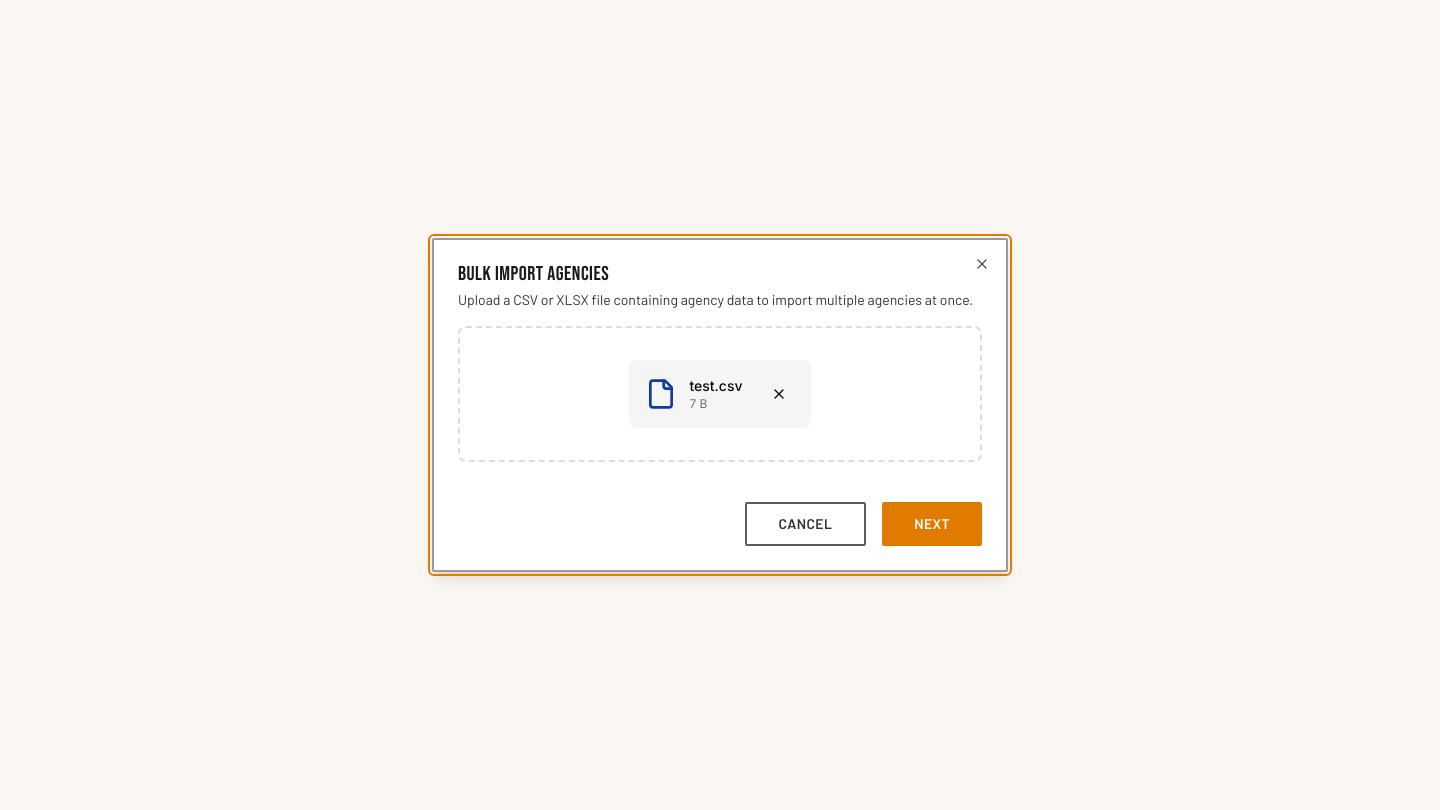
Test: BulkImportModal › File Removal › clears selected file when remove button is clicked
Earlier steps of the test are not shown.
expect the text "test.csv" is shown: met, box [690, 376, 743, 396]
What coordinates should you click on to do the following:
click the button with test id "remove-file-button"
I would click on:
 (778, 394)
Its box is [762, 372, 794, 416].
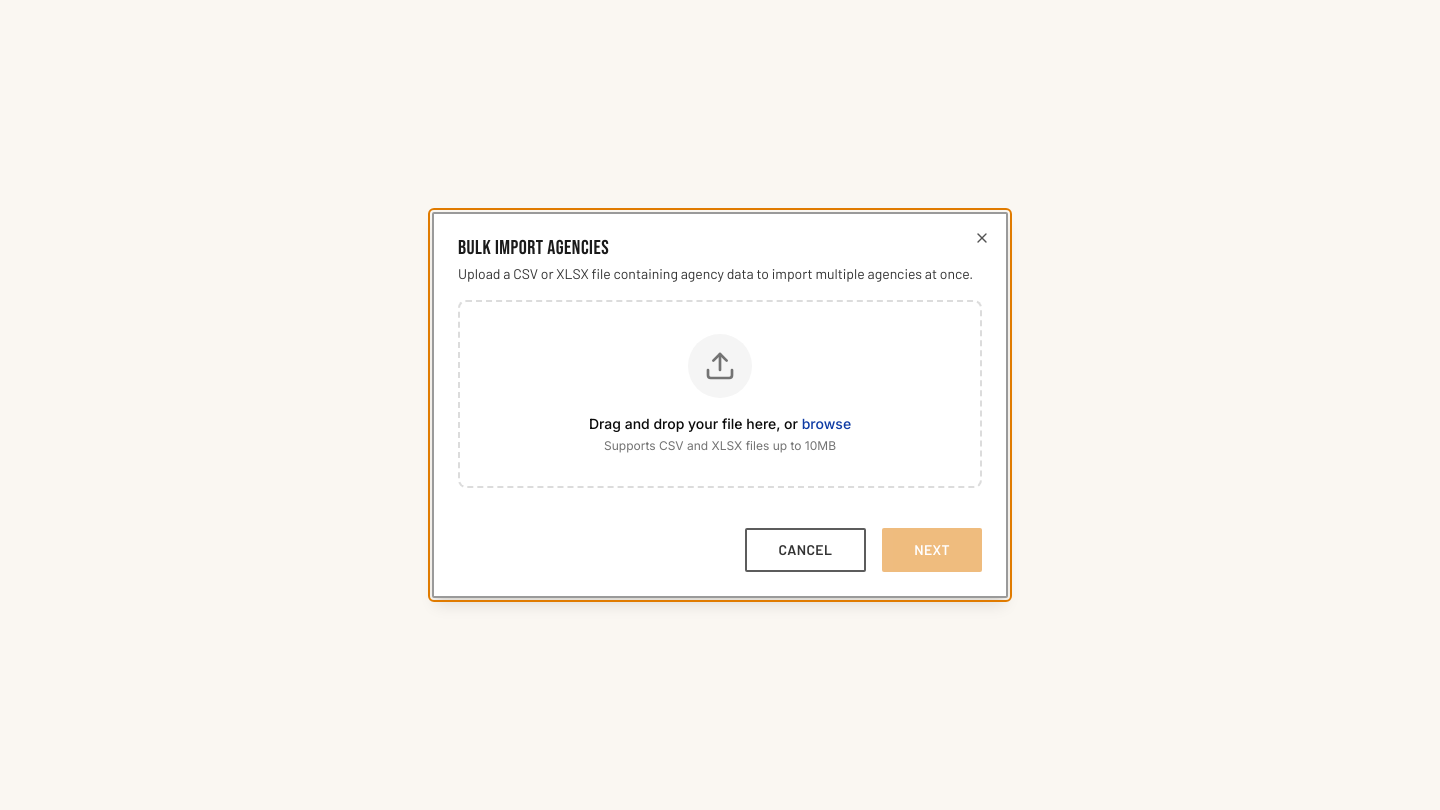
expect the text with test id "selected-file-name" is gone: met
expect the button with test id "next-button" is disabled: met, box [882, 528, 982, 572]
